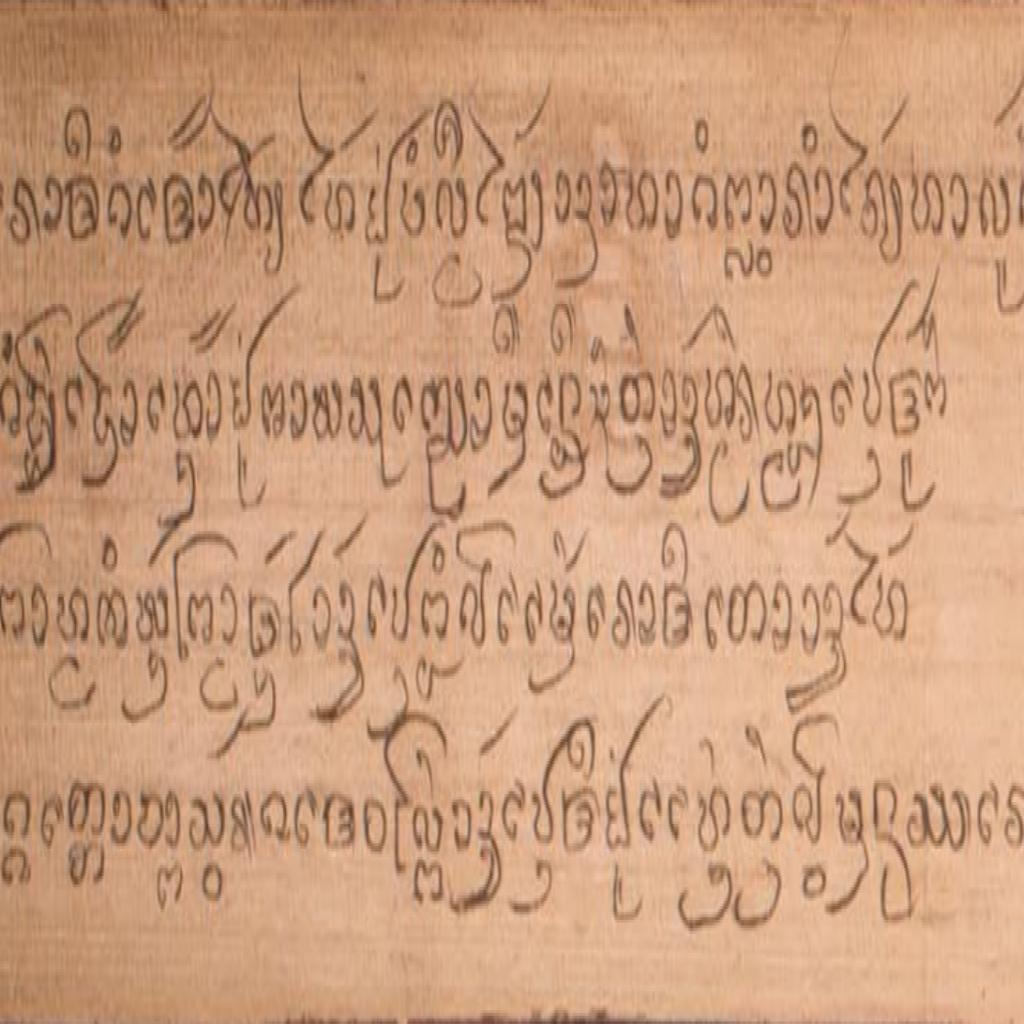LN021: (886, 359, 925, 449)
LN038: (186, 782, 230, 861)
